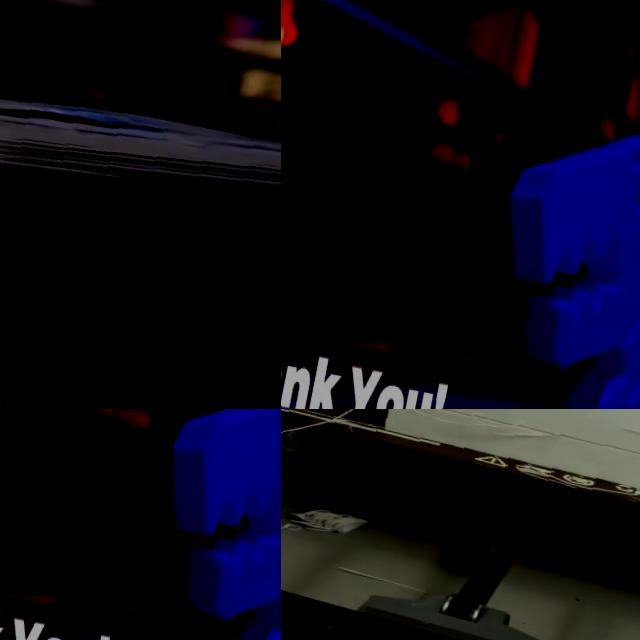spaghetti: (281, 409, 640, 567), (0, 39, 281, 232)
